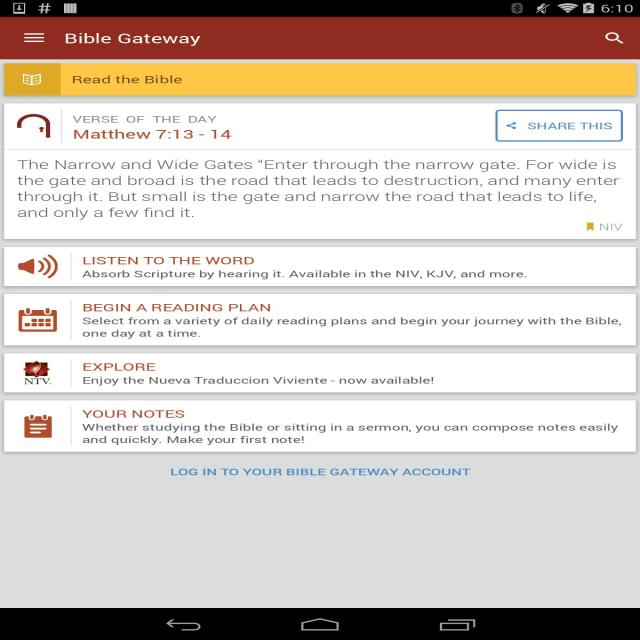button: (4, 401, 634, 452), (4, 295, 634, 343), (5, 353, 634, 394), (5, 247, 635, 287), (5, 63, 636, 96), (494, 110, 622, 142), (604, 29, 631, 49), (20, 30, 48, 46)
heading: (72, 125, 235, 146), (80, 300, 273, 314), (60, 32, 204, 50), (77, 253, 260, 266), (81, 408, 186, 419), (82, 361, 158, 374)
image: (8, 297, 68, 342), (5, 106, 60, 147), (6, 248, 67, 284), (11, 406, 64, 446), (6, 356, 68, 390), (8, 64, 59, 93)
link: (168, 466, 472, 479)
text: (14, 154, 626, 220), (77, 315, 625, 340), (79, 423, 618, 447), (80, 267, 529, 281), (79, 374, 437, 387), (71, 74, 184, 86)
